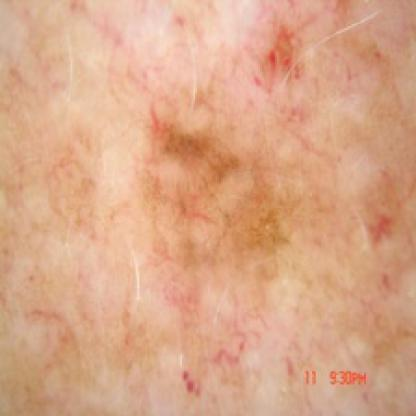malignant: (145, 32, 308, 276)
